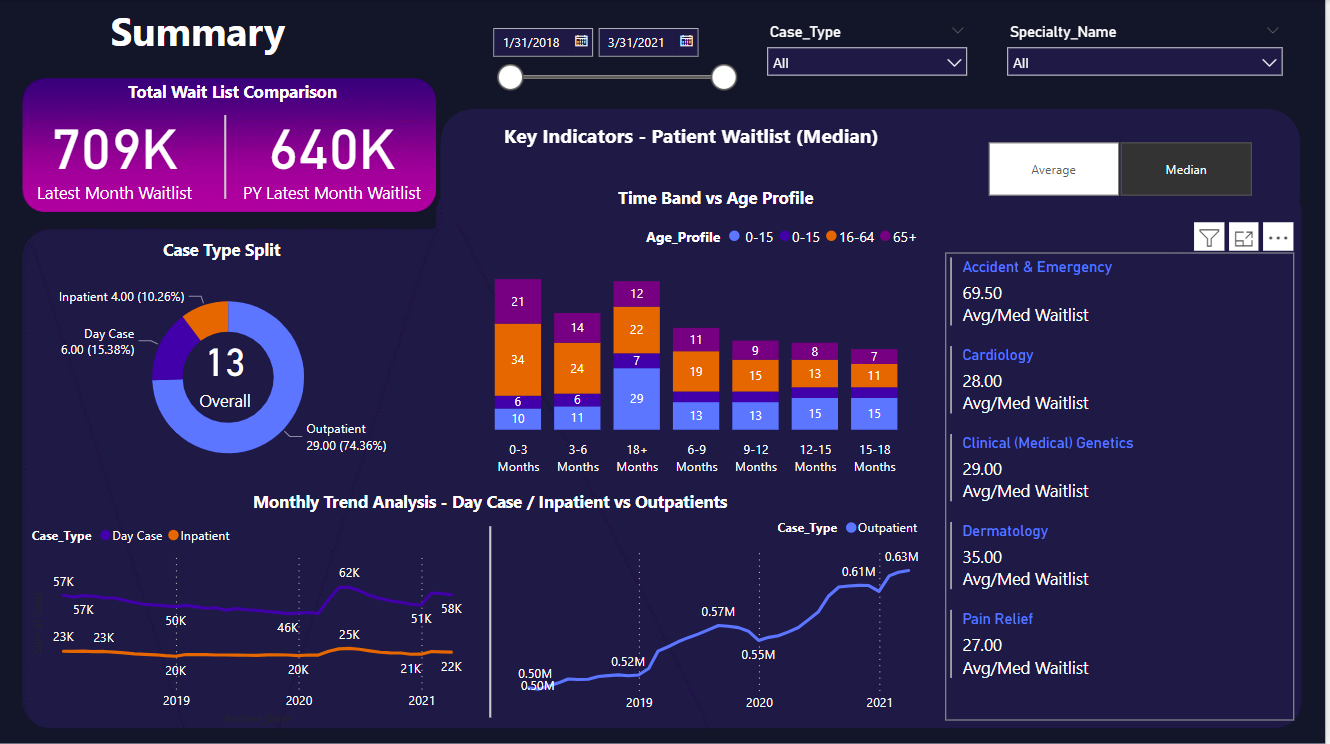

The page's visual inventory and layout, read from the dashboard file:
{"tool":"powerbi","page":{"name":"Summary","canvas":[1280,720],"ordinal":0},"visuals":[{"type":"shape","box":[425.7,104.9,829.7,114.6],"z":0},{"type":"card","fields":{"Values":["All_Data.Latest Month Waitlist"]},"box":[15.7,91.7,191.8,112.2],"z":1000},{"type":"card","fields":{"Values":["All_Data.PY Latest Month Waitlist"]},"box":[225.5,91.7,191.8,112.2],"z":2000},{"type":"donutChart","fields":{"Category":["All_Data.Case_Type"],"Y":["All_Data.Avg/Med Waitlist"]},"box":[26.5,264.1,389.5,200.2],"z":3000},{"type":"slicer","fields":{"Values":["Calculation Method.Calc Method"]},"box":[928.8,130,303.8,65],"z":4000},{"type":"columnChart","fields":{"Y":["All_Data.Avg/Med Waitlist"],"Series":["All_Data.Age_Profile"],"Category":["All_Data.Time_Bands"]},"box":[442.6,207.4,453.5,258.1],"z":5000},{"type":"multiRowCard","fields":{"Values":["All_Data.Specialty_Name","All_Data.Avg/Med Waitlist"]},"box":[912.5,243.8,337.5,451.2],"z":6000},{"type":"card","fields":{"Values":["All_Data.No Data Left"]},"box":[86.8,559.6,349.7,91.7],"z":7000},{"type":"card","fields":{"Values":["All_Data.No Data Right"]},"box":[528.2,556,300.3,90.5],"z":7500},{"type":"lineChart","fields":{"Category":["All_Data.Archive_Date"],"Y":["Sum(All_Data.Total)"],"Series":["All_Data.Case_Type"]},"box":[493.4,489.1,402.5,206.3],"z":8000},{"type":"slicer","fields":{"Values":["All_Data.Archive_Date"]},"box":[464.3,16.9,255.7,88],"z":9000},{"type":"slicer","fields":{"Values":["All_Data.Case_Type"]},"box":[730.9,16.9,213.5,80.8],"z":10000},{"type":"slicer","fields":{"Values":["All_Data.Specialty_Name"]},"box":[962.4,16.9,285.8,80.8],"z":11000},{"type":"textbox","box":[16,0,352,64],"z":12000},{"type":"card","fields":{"Values":["All_Data.Avg/Med Waitlist"]},"box":[152,308.7,132.7,96.5],"z":13000},{"type":"shape","box":[139.9,111,156.8,80.8],"z":14000},{"type":"textbox","box":[77.2,72.4,300.3,32.6],"z":15000},{"type":"textbox","box":[592.2,174.9,221.9,31.4],"z":16000},{"type":"textbox","box":[153.2,224.3,137.5,39.8],"z":17000},{"type":"textbox","box":[240,467.9,480,41],"z":18000},{"type":"card","fields":{"Values":["All_Data.Dynamic Title"]},"box":[464.3,103.7,407.6,59.1],"z":19000},{"type":"shape","box":[442.6,507.7,62.7,184.5],"z":20000},{"type":"lineChart","fields":{"Category":["All_Data.Archive_Date"],"Y":["Sum(All_Data.Total)"],"Series":["All_Data.Case_Type"]},"box":[26.5,496.9,428.1,207.4],"z":21000}]}

Visuals, with their boxes in screenshot pixels (x1, y1, x2, y2), scaled from the page's 1280x720 canvas onto the 1330x744 screenshot:
shape: <box>442,108,1304,227</box>
card - All_Data.Latest Month Waitlist: <box>16,95,216,211</box>
card - All_Data.PY Latest Month Waitlist: <box>234,95,434,211</box>
donutChart - All_Data.Case_Type x All_Data.Avg/Med Waitlist: <box>28,273,432,480</box>
slicer - Calculation Method.Calc Method: <box>965,134,1281,202</box>
columnChart - All_Data.Avg/Med Waitlist x All_Data.Age_Profile: <box>460,214,931,481</box>
multiRowCard - All_Data.Specialty_Name x All_Data.Avg/Med Waitlist: <box>948,252,1299,718</box>
card - All_Data.No Data Left: <box>90,578,454,673</box>
card - All_Data.No Data Right: <box>549,575,861,668</box>
lineChart - All_Data.Archive_Date x Sum(All_Data.Total): <box>513,505,931,719</box>
slicer - All_Data.Archive_Date: <box>482,17,748,108</box>
slicer - All_Data.Case_Type: <box>759,17,981,101</box>
slicer - All_Data.Specialty_Name: <box>1000,17,1297,101</box>
textbox: <box>17,0,382,66</box>
card - All_Data.Avg/Med Waitlist: <box>158,319,296,419</box>
shape: <box>145,115,308,198</box>
textbox: <box>80,75,392,109</box>
textbox: <box>615,181,846,213</box>
textbox: <box>159,232,302,273</box>
textbox: <box>249,483,748,526</box>
card - All_Data.Dynamic Title: <box>482,107,906,168</box>
shape: <box>460,525,525,715</box>
lineChart - All_Data.Archive_Date x Sum(All_Data.Total): <box>28,513,472,728</box>
